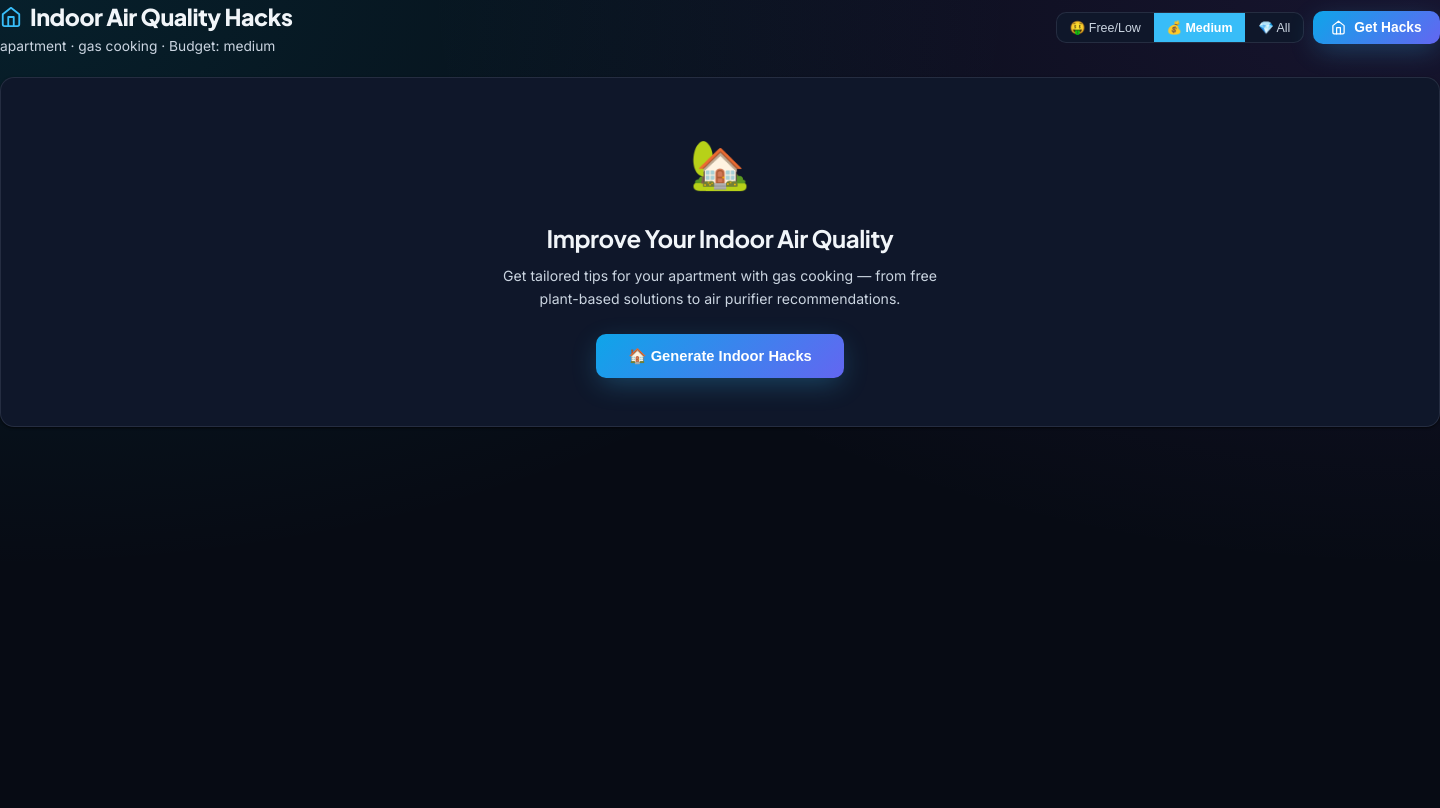
Test: IndoorPanel › switches budget and renders indoor air quality hacks
Click the button "🤑 Free/Low". click: click(1105, 28)
box: x1=1057 y1=13 x2=1154 y2=42
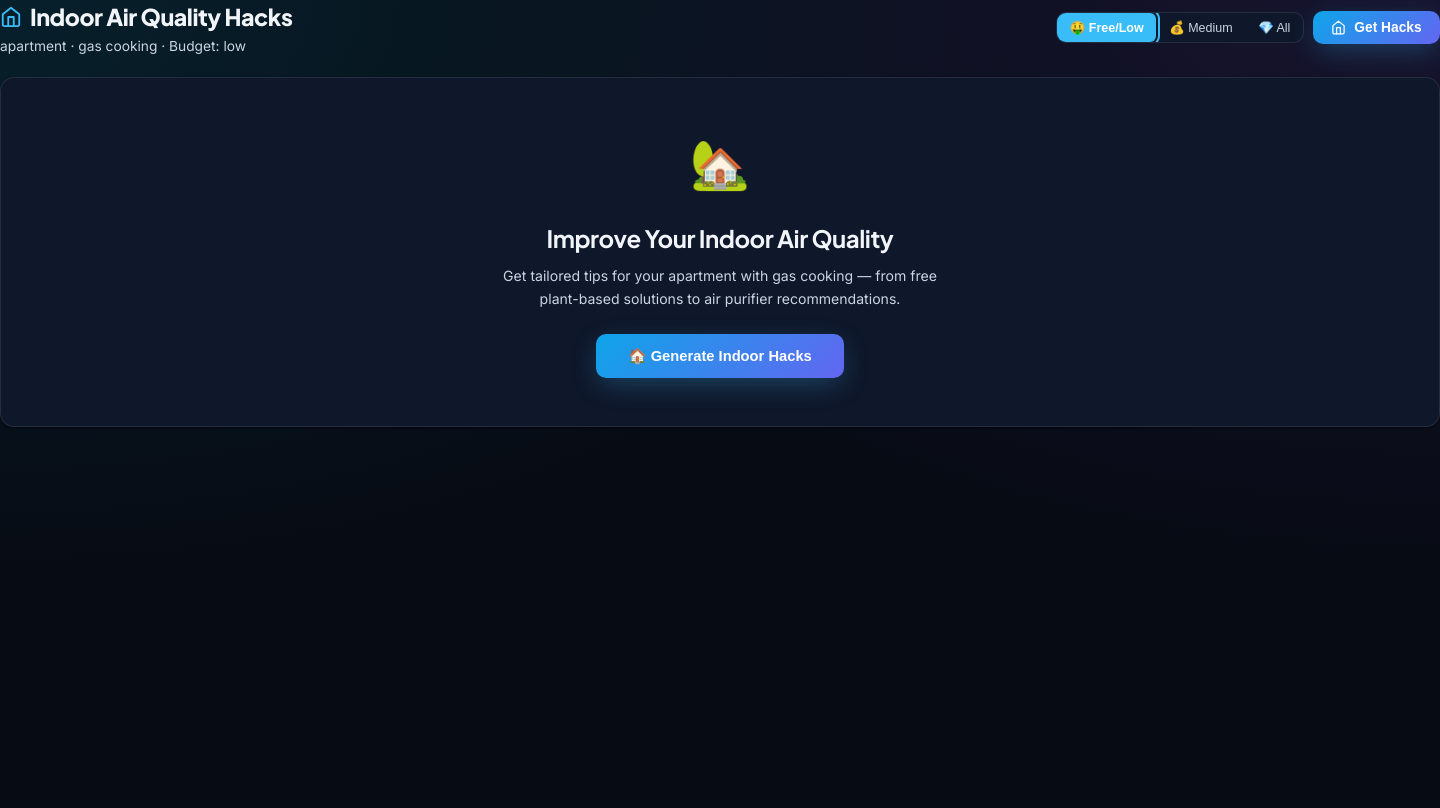
Click the button "🏠 Generate Indoor Hacks". click: click(720, 356)
box: x1=596 y1=334 x2=844 y2=378
(page scrolled)
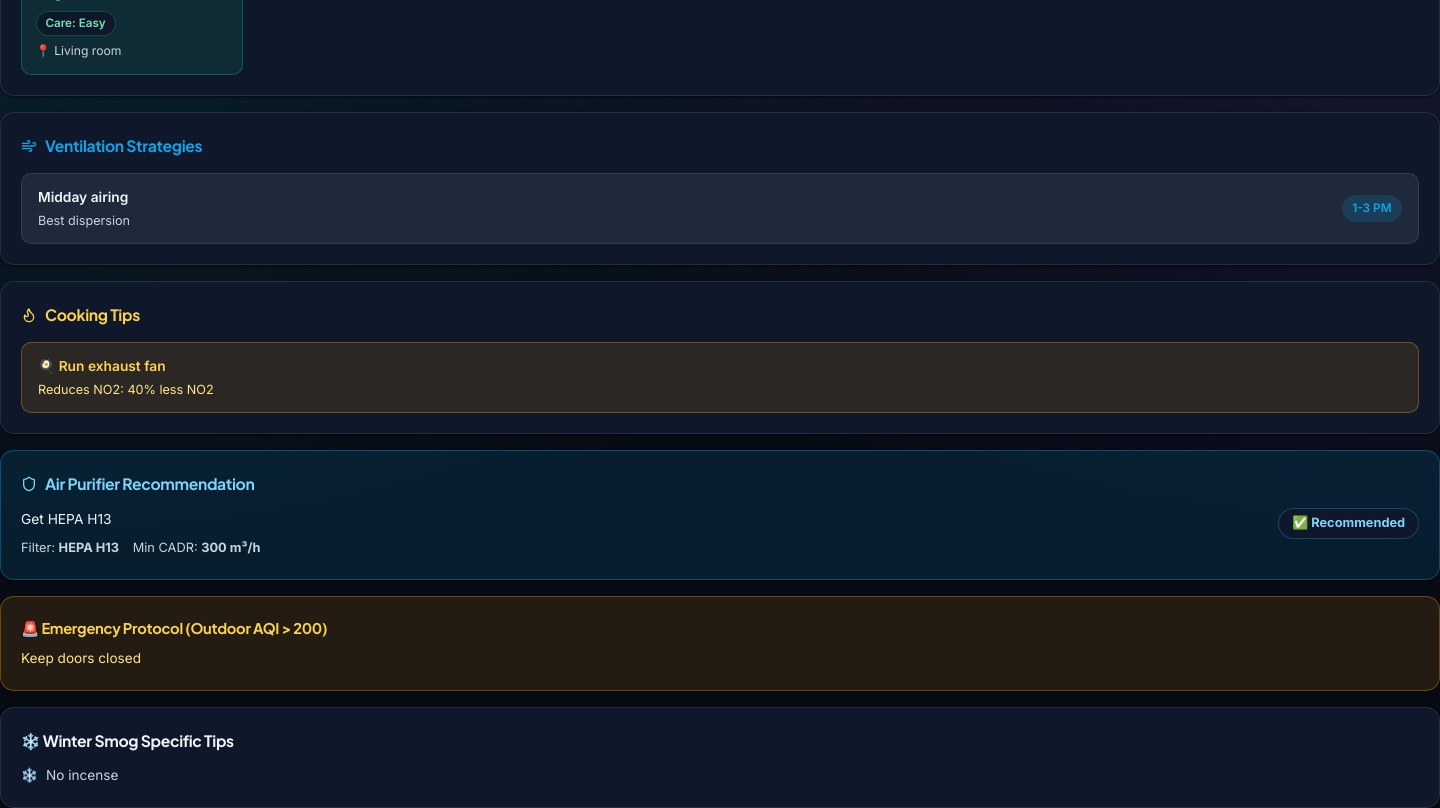
Now the text "Get HEPA H13" is shown, box x1=21 y1=511 x2=112 y2=527
